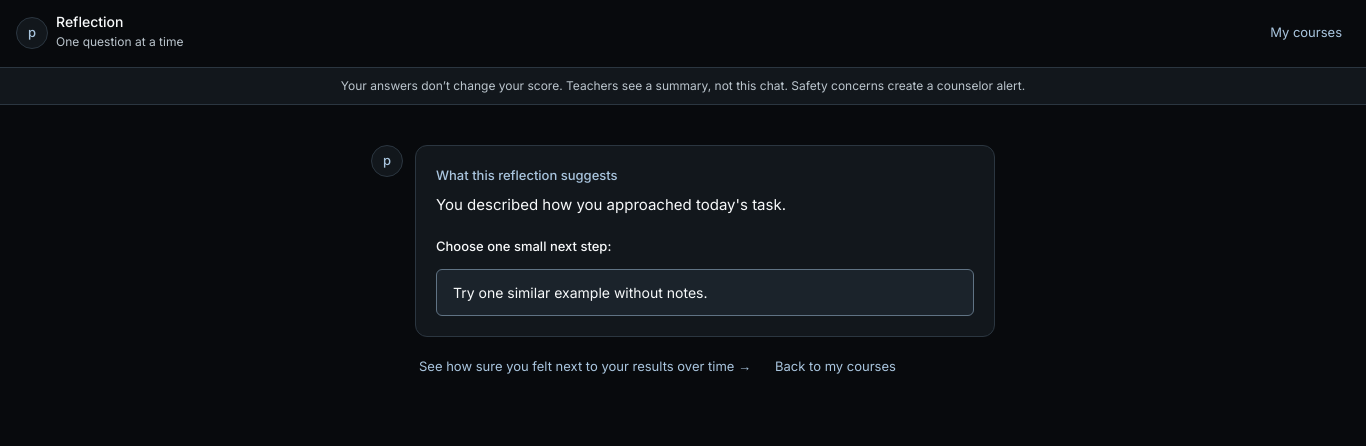
it: ChatFlow › rolls back an optimistic next step when saving fails
Click the button "Try one similar example without notes.": (705, 292) [436,269,974,316]
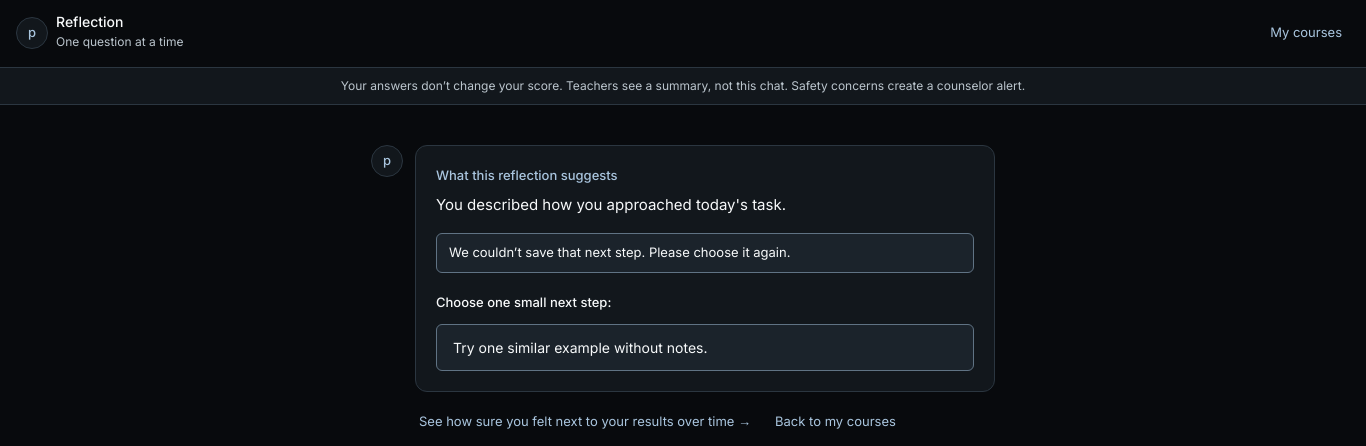
Expected: the button "Try one similar example without notes." is enabled, [436,324,974,371]
Now the message shows "couldn’t save that next step", box [449,244,790,260]
